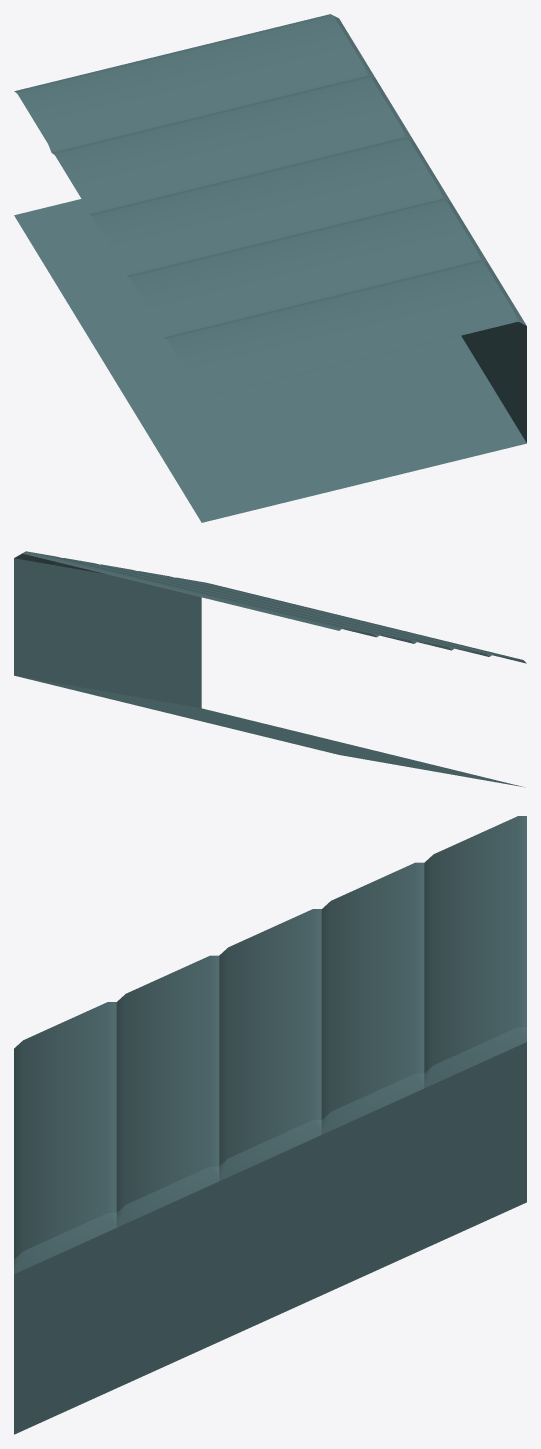
File: CA_133_cosmodrome_floor_slope_right_end.glb
3 renders of one model, top to bottom at view 1: azimuth 30°, elevation 25°; view 2: azimuth 150°, elevation 25°; view 3: azimuth 270°, elevation 25°, orthographic. The views are drawn at different scales.
Parts seen in each view (by area): view 1: slope; view 2: slope; view 3: slope.
Boxes of the visible parts, box(x1,y1,x2,y2) form: slope: box(14, 14, 526, 522); slope: box(14, 551, 526, 787); slope: box(14, 816, 526, 1434).
Size of the model in its own units: 0.75 by 0.6483 by 0.75.
